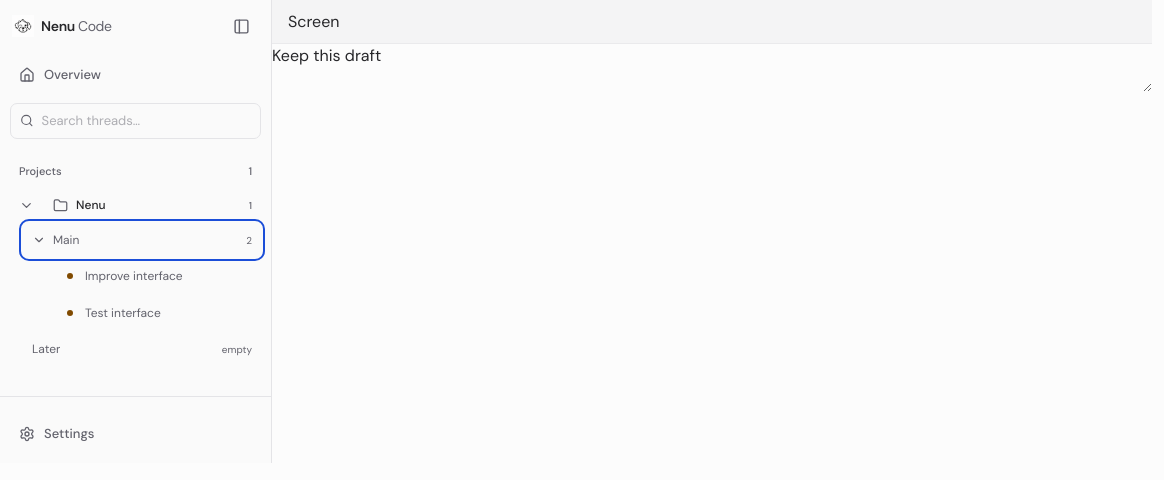
Test case: renders a keyboard-accessible workspace, tab and pane tree
Expected: the link "Improve interface" is shown, [63, 268, 183, 292]
Press Enter
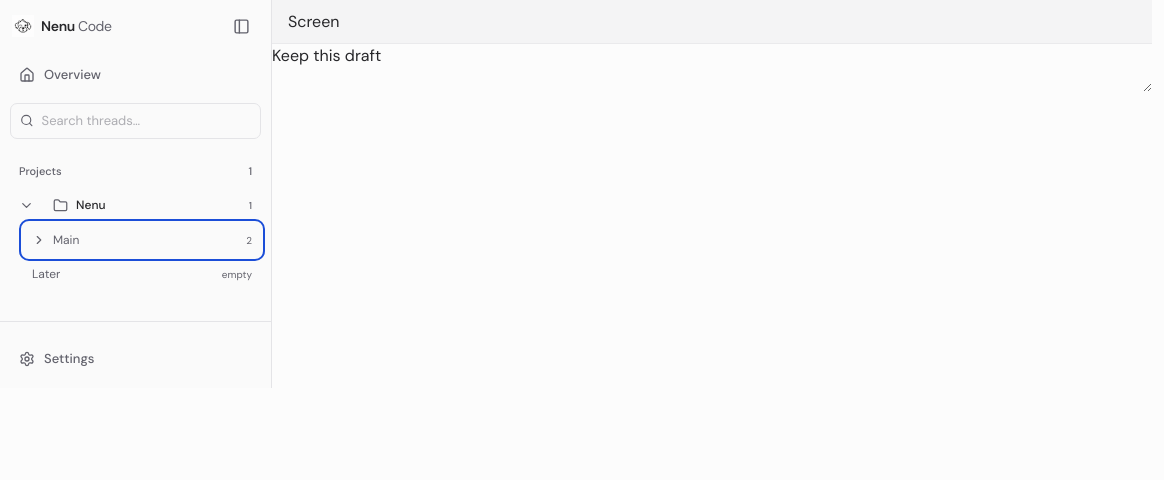
Expected: the button named "Collapse tab Main" is collapsed, [23, 223, 261, 257]
Expected: the link "Improve interface" is gone
Click the button named "Collapse Nenu".
click(26, 205)  # box [10, 187, 42, 223]
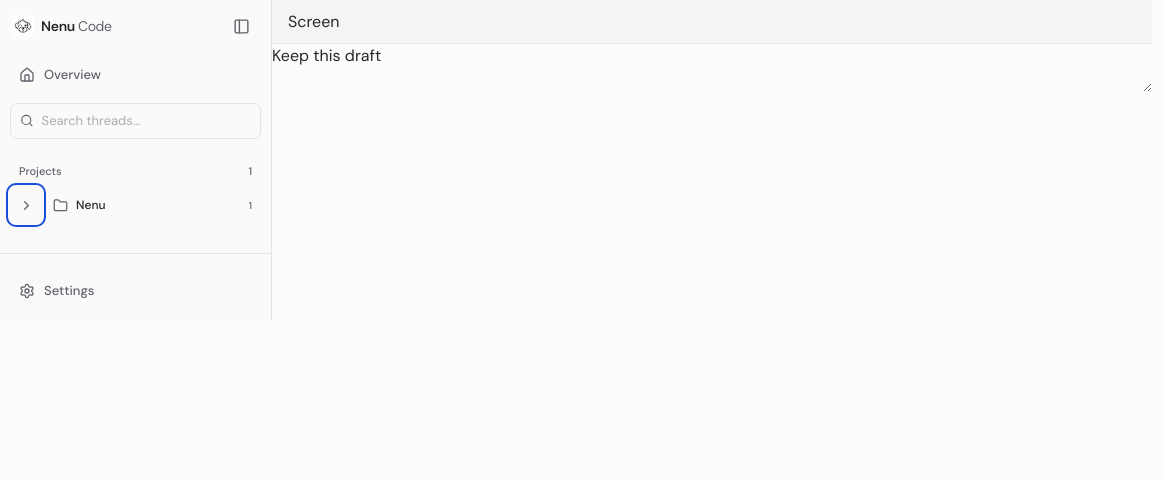
Expected: the button named "Expand Nenu" is collapsed, [10, 187, 42, 223]
